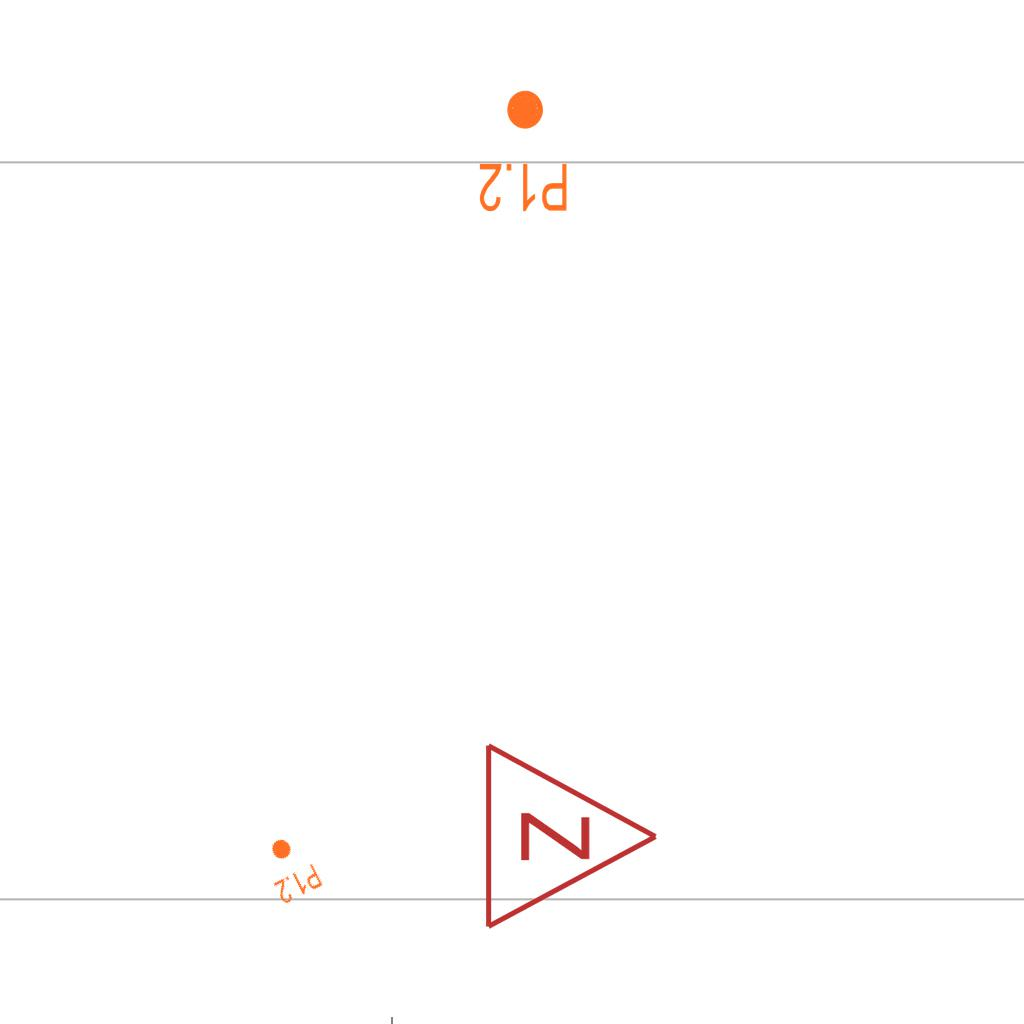Downlight_LED_Einbauleuchten_Flur: (477, 87, 570, 215), (254, 829, 326, 907)
Zimmersignalleuchte: (471, 736, 671, 932)
